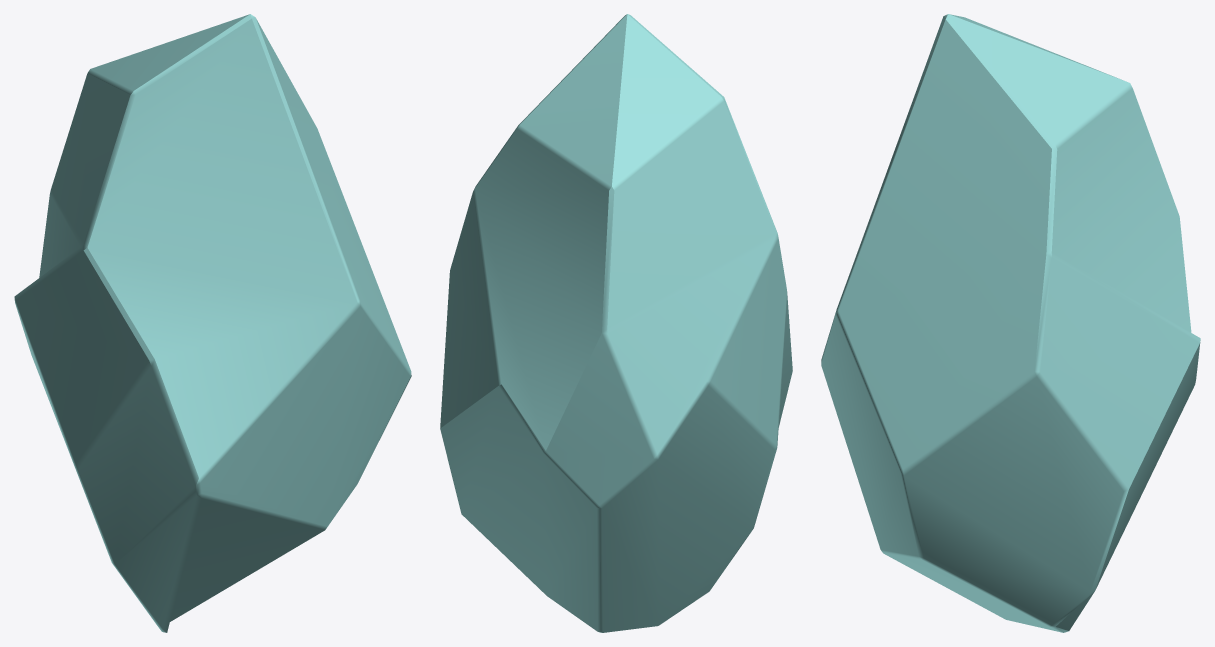
The model's file is Crystal.fbx.
3 views of the same model, side by side, from view 1: azimuth 30°, elevation 25°; view 2: azimuth 150°, elevation 25°; view 3: azimuth 270°, elevation 25° (orthographic). The views are drawn at different scales.
Parts seen in each view (by area): view 1: Kristall; view 2: Kristall; view 3: Kristall.
Part boxes in pixels (x1,y1,x2,y2): Kristall: [14, 14, 411, 632]; Kristall: [440, 14, 792, 632]; Kristall: [821, 14, 1200, 632].
Bounding box in the file's own units: 37.81 × 71.23 × 38.52.
